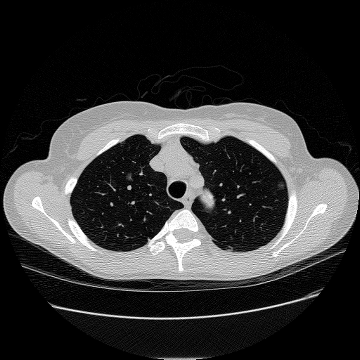nodule: (277, 181, 285, 189)
